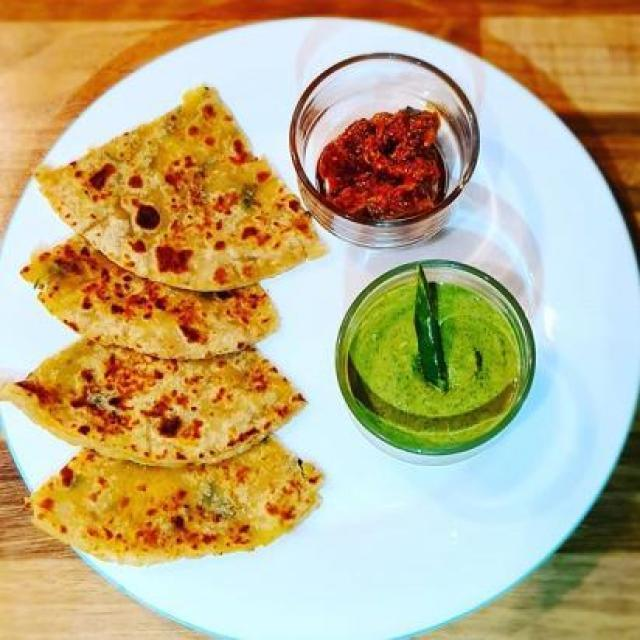alooparatha-chapati: (30, 81, 312, 594)
